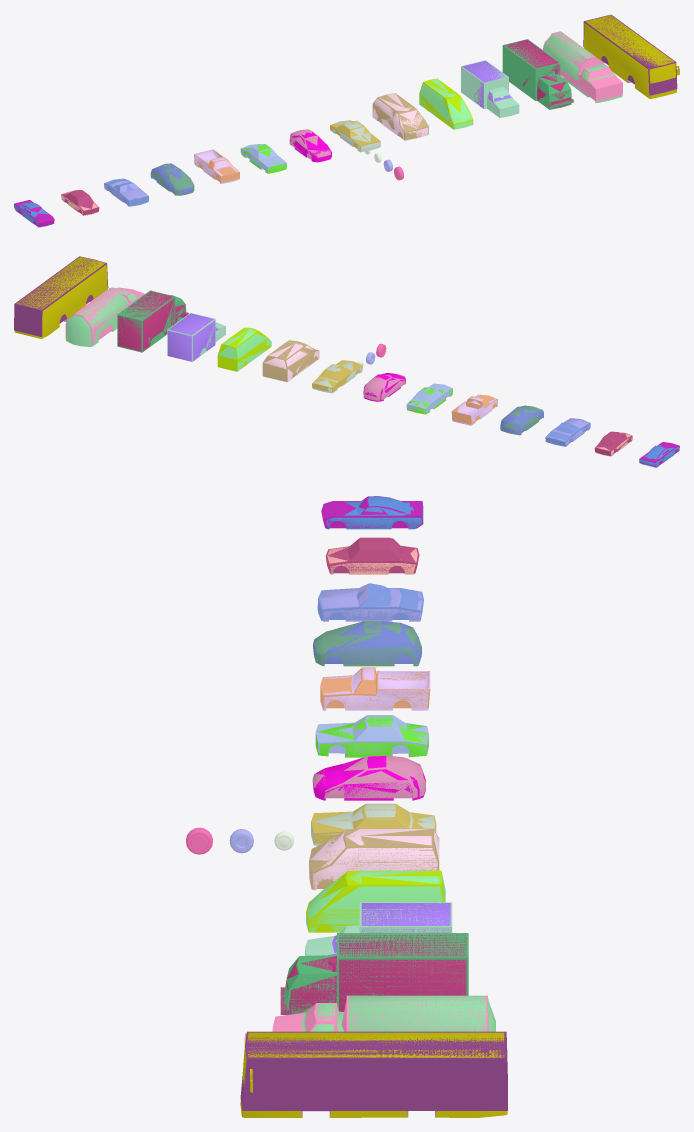
File: cars.glb
3 views of the same model, one above another, from view 1: azimuth 30°, elevation 25°; view 2: azimuth 150°, elevation 25°; view 3: azimuth 270°, elevation 25° (orthographic). The views are drawn at different scales.
Visible parts, largest first — view 1: mcar014, shape012, shape013, shape011, mcar013, shape014, mcar012, mcar010, mcar009, shape009, shape010, mcar011 (+14 smaller); view 2: mcar014, shape014, mcar012, mcar013, mcar011, shape012, shape013, shape009, mcar010, shape010, shape006, shape008 (+15 smaller); view 3: shape014, mcar012, shape012, mcar013, mcar014, mcar009, mcar010, shape013, mcar005, shape004, shape007, mcar004 (+16 smaller).
Part boxes in pixels (bbox=[...]): mcar014: bbox=[584, 15, 679, 98]; shape012: bbox=[502, 39, 573, 109]; shape013: bbox=[543, 31, 622, 101]; shape011: bbox=[461, 60, 519, 117]; mcar013: bbox=[543, 31, 622, 103]; shape014: bbox=[583, 14, 677, 95]; mcar012: bbox=[504, 39, 573, 108]; mcar010: bbox=[420, 79, 472, 129]; mcar009: bbox=[373, 93, 428, 140]; shape009: bbox=[372, 93, 428, 140]; shape010: bbox=[419, 78, 473, 129]; mcar011: bbox=[462, 60, 512, 108]; mcar014: bbox=[14, 257, 107, 338]; shape014: bbox=[14, 256, 108, 336]; mcar012: bbox=[118, 291, 188, 351]; mcar013: bbox=[66, 288, 140, 346]; mcar011: bbox=[168, 313, 220, 361]; shape012: bbox=[117, 290, 186, 352]; shape013: bbox=[65, 287, 144, 345]; shape009: bbox=[262, 340, 319, 381]; mcar010: bbox=[218, 328, 271, 371]; shape010: bbox=[217, 327, 271, 371]; shape006: bbox=[406, 383, 452, 413]; shape008: bbox=[312, 360, 362, 392]; shape014: bbox=[240, 1031, 507, 1110]; mcar012: bbox=[280, 934, 466, 1014]; shape012: bbox=[280, 933, 468, 1014]; mcar013: bbox=[302, 995, 495, 1031]; mcar014: bbox=[240, 1032, 507, 1117]; mcar009: bbox=[309, 829, 439, 890]; mcar010: bbox=[306, 871, 445, 932]; shape013: bbox=[272, 995, 488, 1031]; mcar005: bbox=[320, 668, 430, 710]; shape004: bbox=[313, 621, 421, 663]; shape007: bbox=[312, 755, 426, 798]; mcar004: bbox=[314, 621, 421, 666].
Bounding box in the file's own units: 67.88 × 4.54 × 15.2.
